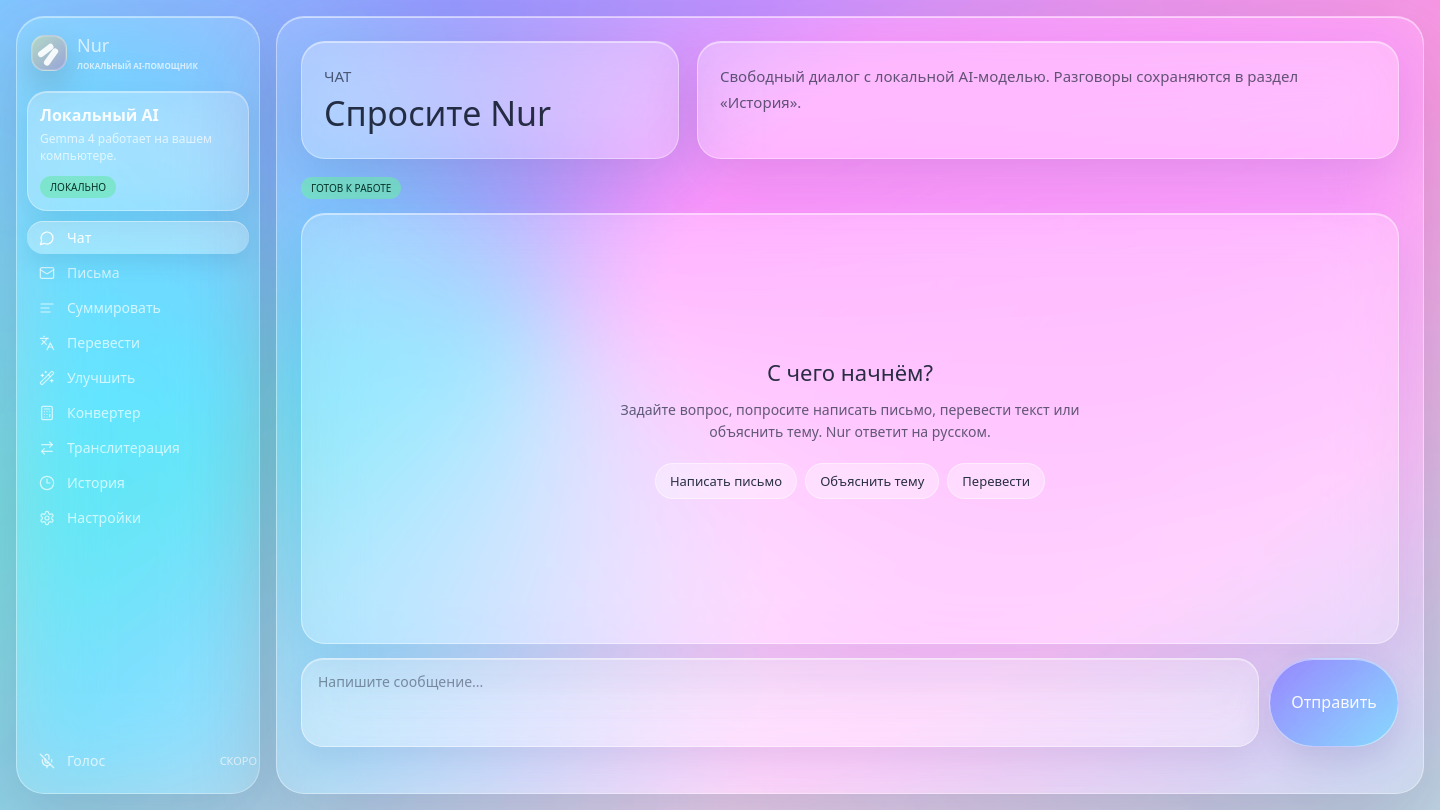
Test: Nur shell › navigates between sections from the sidebar
Expected: the heading "Спросите Nur" is shown, [324,90,551,136]
Click the button "Письма".
click(138, 272)  # box [27,256,249,289]
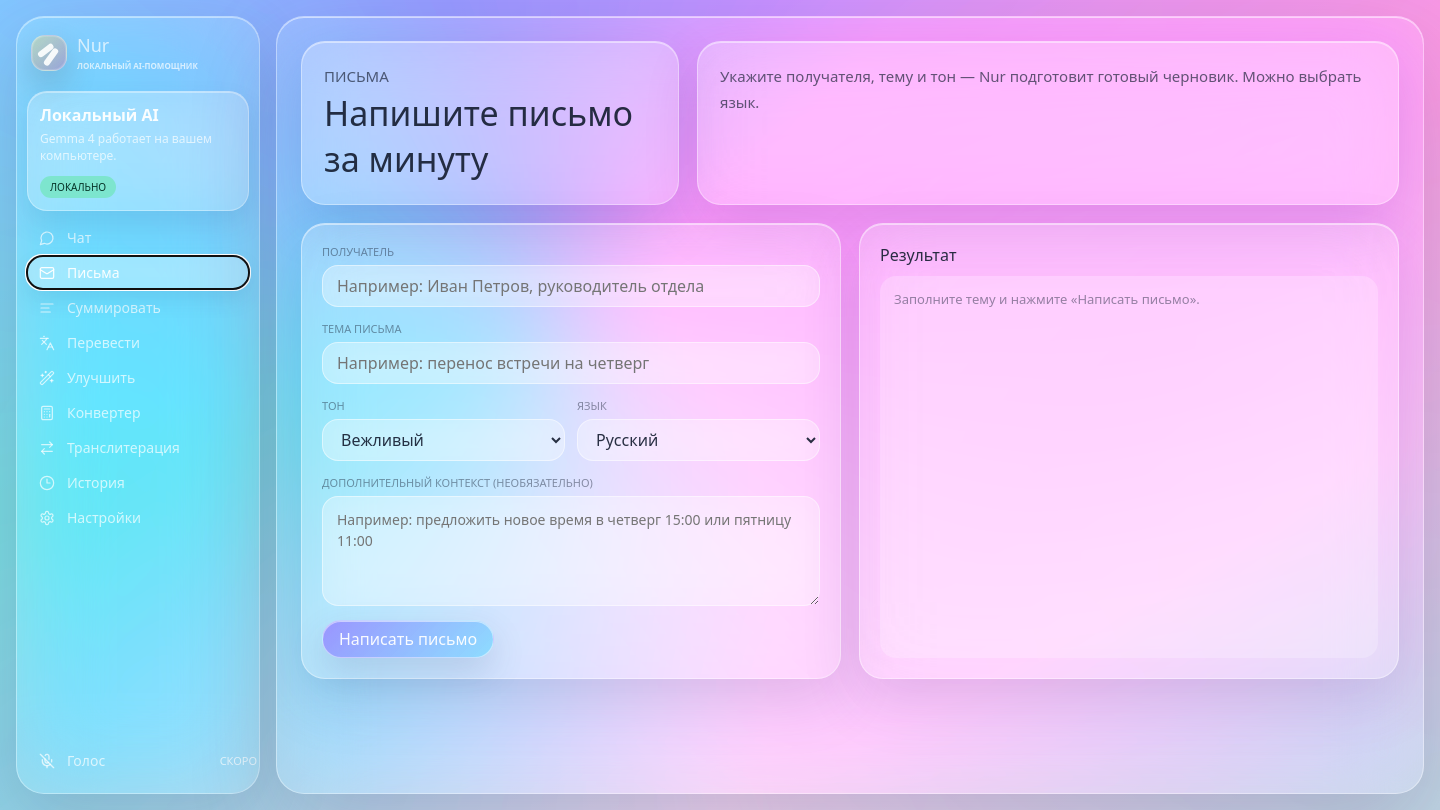
Now the heading "Напишите письмо за минуту" is shown, box [324,90,656,182]
